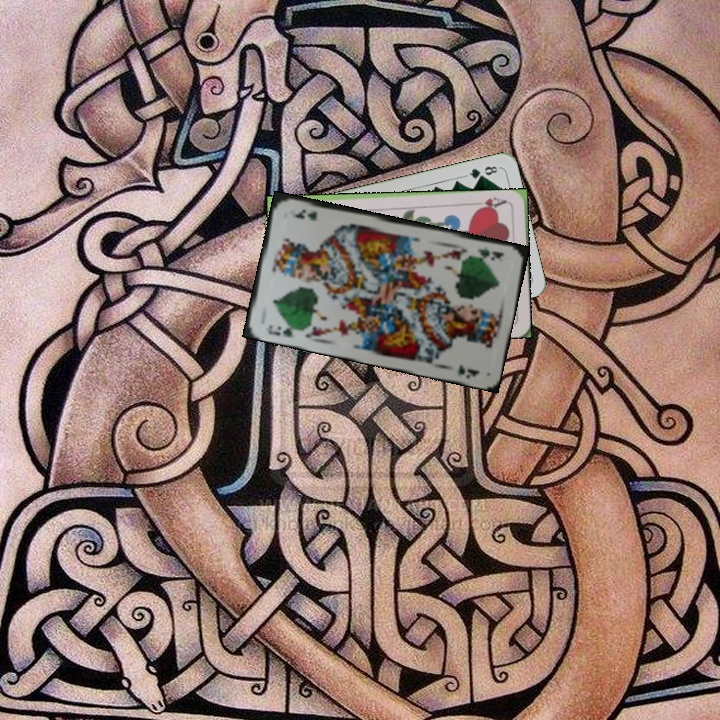G8: (462, 162, 502, 182)
GK: (469, 242, 507, 263), (264, 320, 295, 340)
HA: (470, 193, 511, 213)
